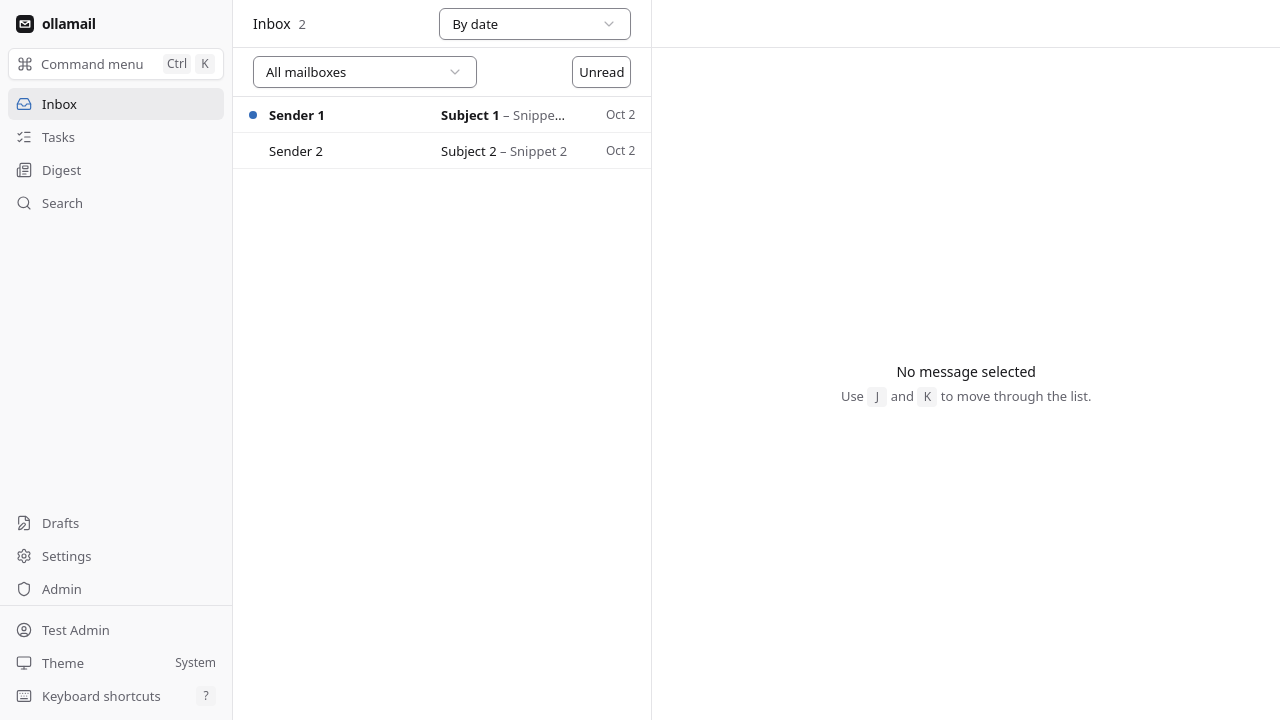
Scenario: inbox › filters unread messages
Check: the heading "Inbox" is shown, box x1=253 y1=14 x2=291 y2=34
Check: the text "Sender 2" is shown, box x1=269 y1=142 x2=323 y2=160
Click the button "Unread" at [602, 72], box x1=572 y1=56 x2=631 y2=88
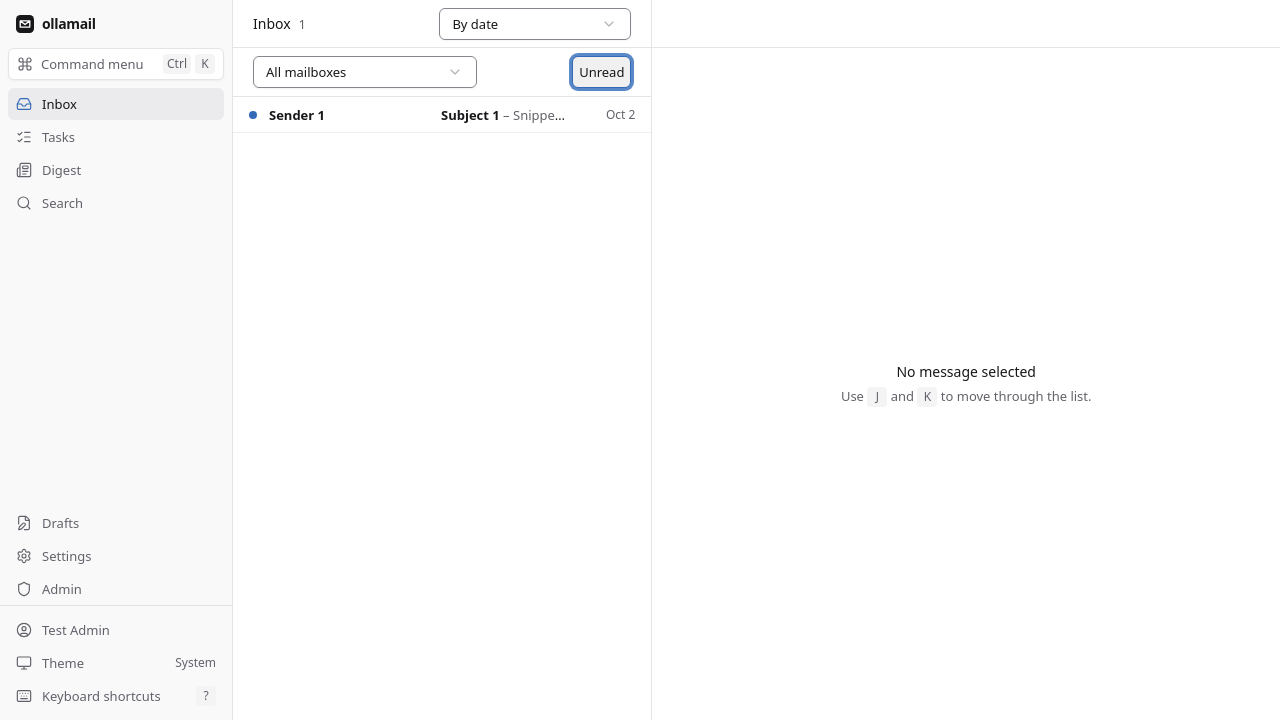
Check: the link "Sender 2" is gone
